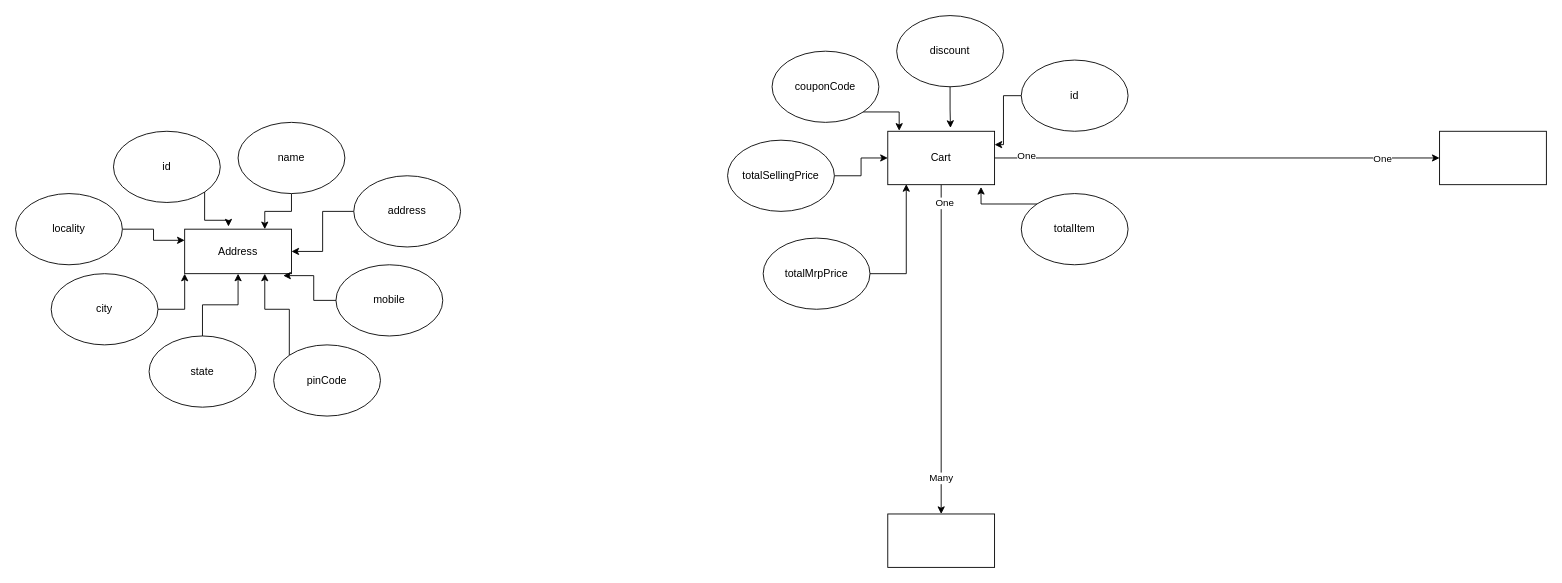
The diagram is 1562 pixels wide and 583 high, and some of its shapes have lost their labels. Each missing label, with the box of its shape:
CartItem: (887, 513, 995, 567)
User: (1439, 130, 1546, 185)
